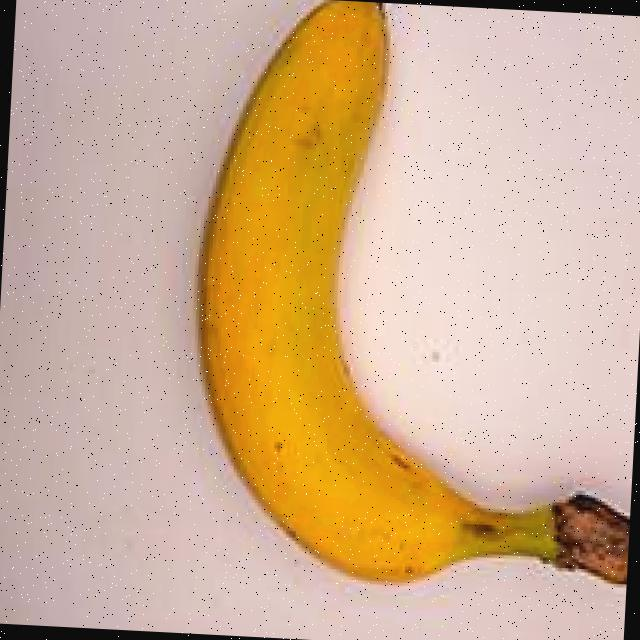Ripe: (162, 0, 640, 610)
